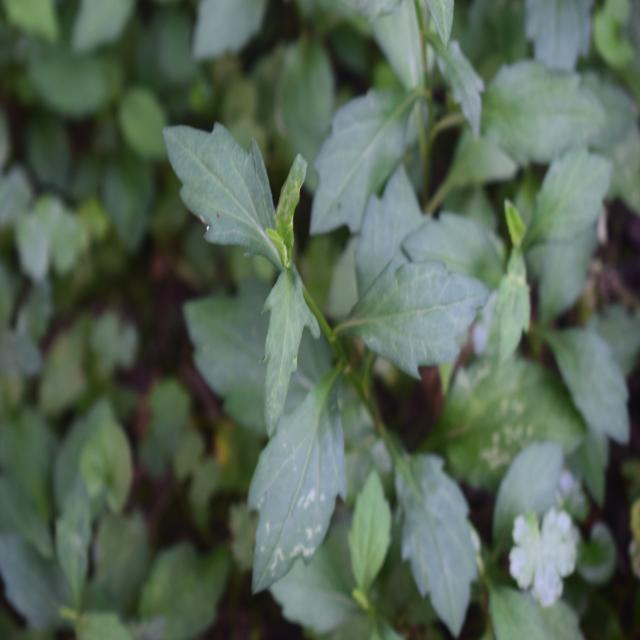Indian aster: (161, 90, 482, 560)
